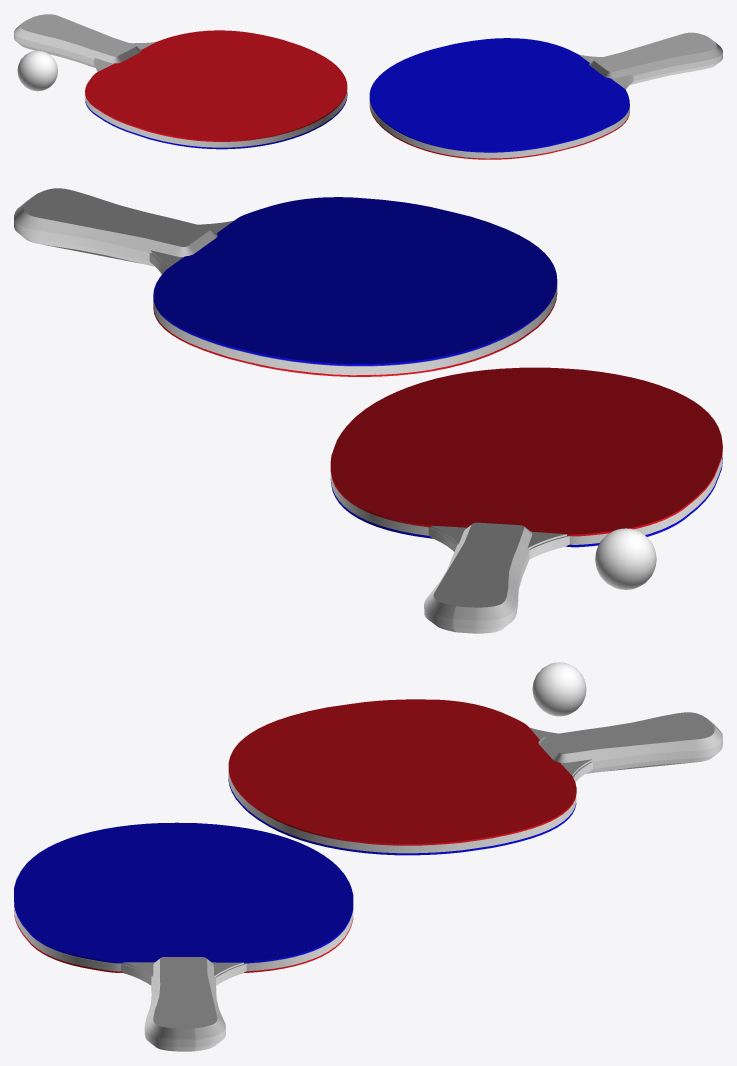
Rendered from ping_pong.obj.
The picture shows the model from 3 angles, top to bottom: view 1: azimuth 30°, elevation 25°; view 2: azimuth 150°, elevation 25°; view 3: azimuth 270°, elevation 25°; orthographic projection. The views are drawn at different scales.
Parts seen in each view (by area): view 1: paddle_2, Paddle_one, ping_pong_ball; view 2: paddle_2, Paddle_one, ping_pong_ball; view 3: Paddle_one, paddle_2, ping_pong_ball.
Part boxes in pixels (<box>): paddle_2: <box>369,32,722,159</box>; Paddle_one: <box>14,14,347,149</box>; ping_pong_ball: <box>17,50,57,91</box>; paddle_2: <box>14,188,557,376</box>; Paddle_one: <box>330,367,722,633</box>; ping_pong_ball: <box>595,528,656,589</box>; Paddle_one: <box>228,699,722,855</box>; paddle_2: <box>14,822,353,1051</box>; ping_pong_ball: <box>532,662,586,716</box>.
Bounding box in the file's own units: 505 × 32.4 × 419.
